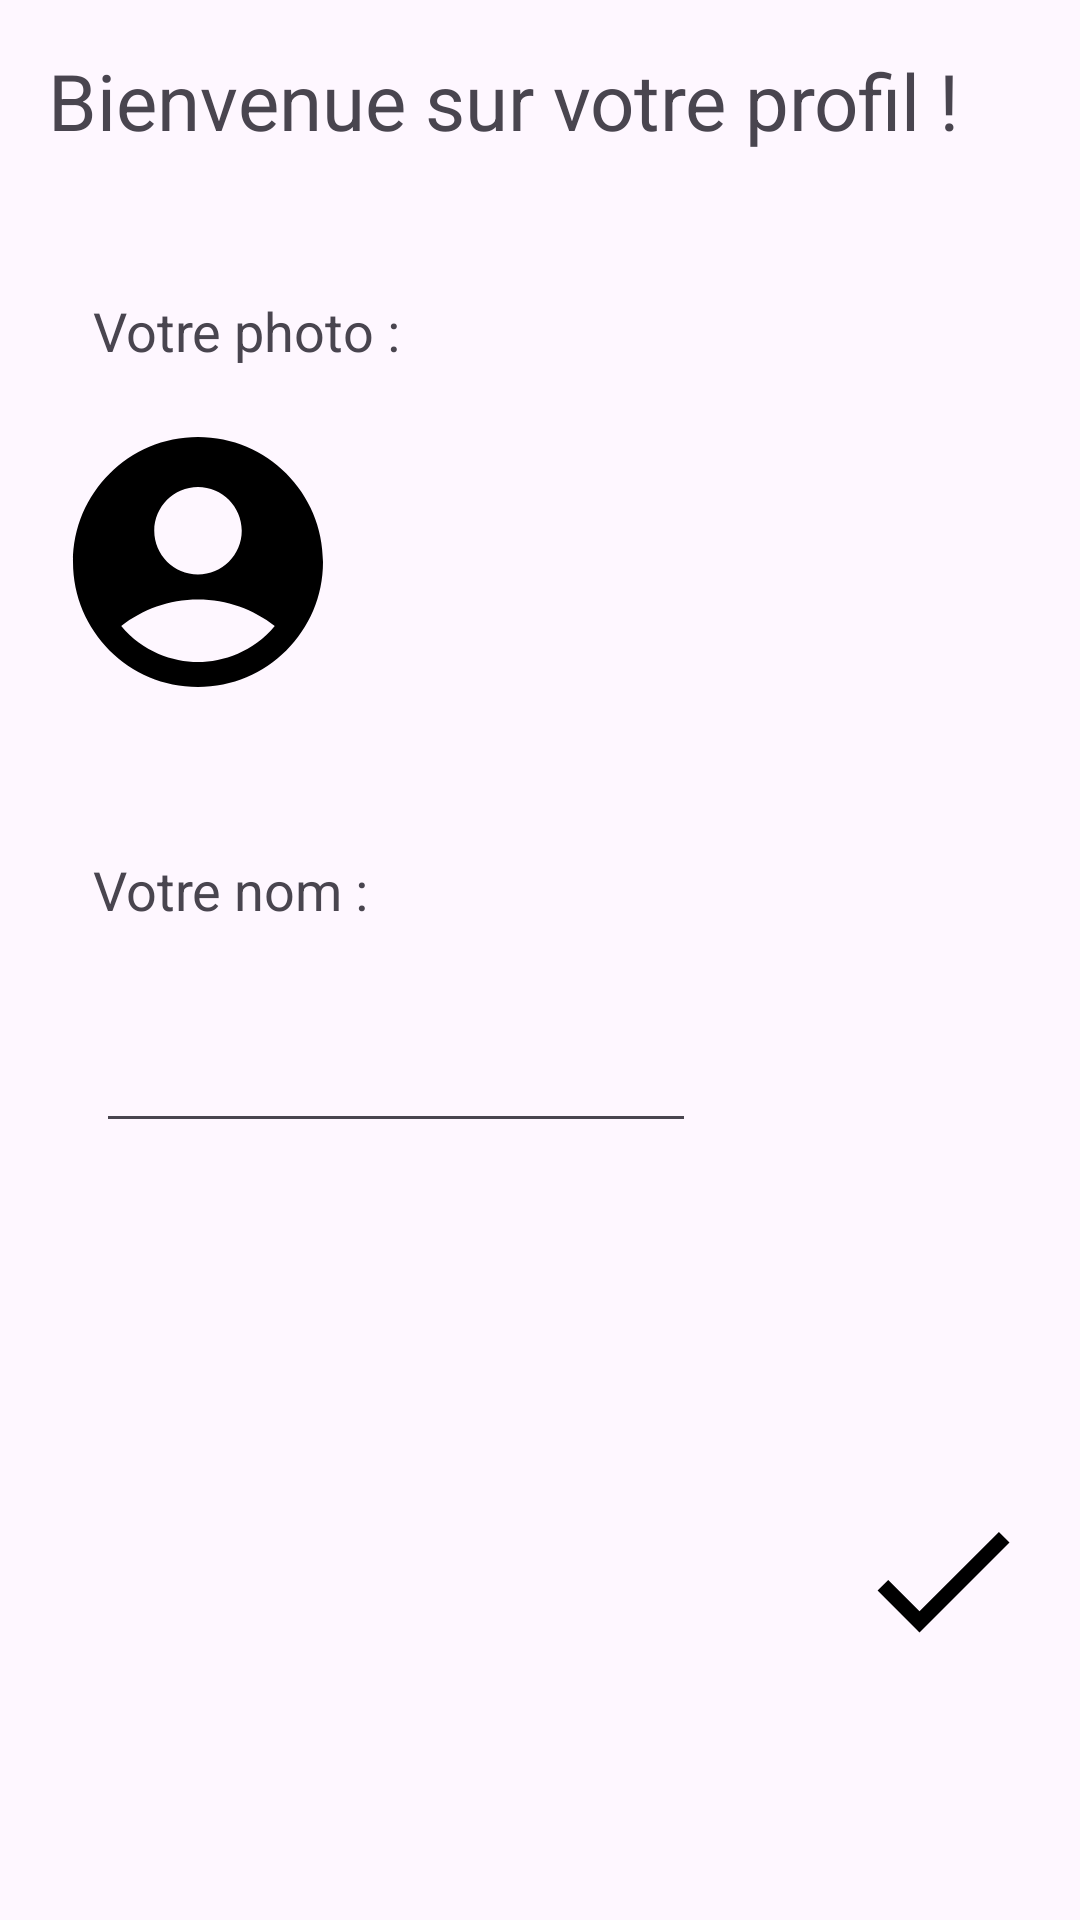

Icon bounding boxes for this 1080 x 1920 phone screenshot, format [x1,y1,x2,y2]:
valider: [877,1532,1010,1633]
